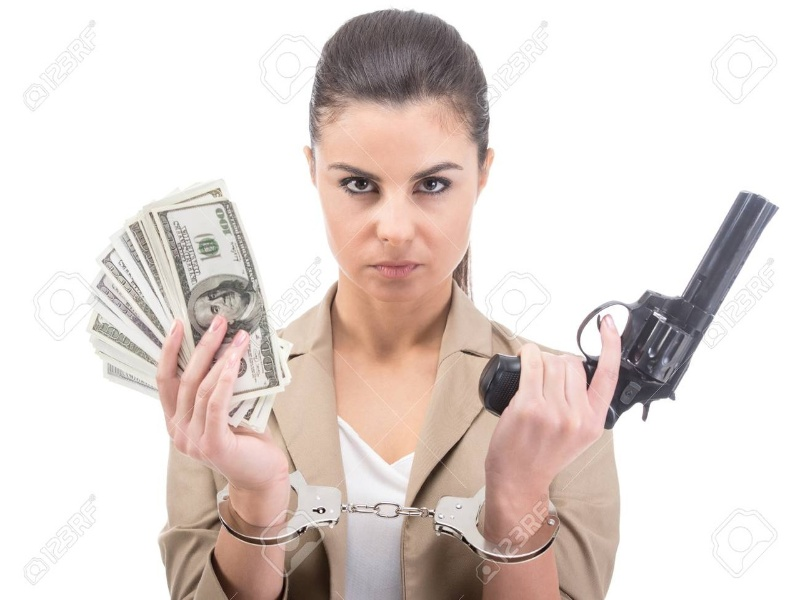cash: (85, 178, 294, 432)
person: (157, 9, 621, 600)
weapon: (479, 192, 779, 431)
